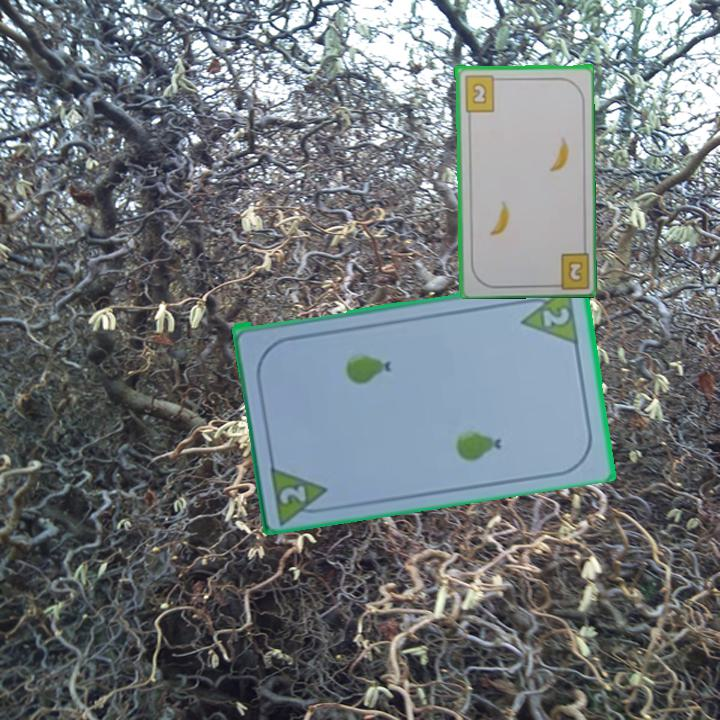2b: (547, 247, 591, 289), (461, 72, 503, 114)
2p: (267, 459, 335, 524), (540, 304, 573, 329)
